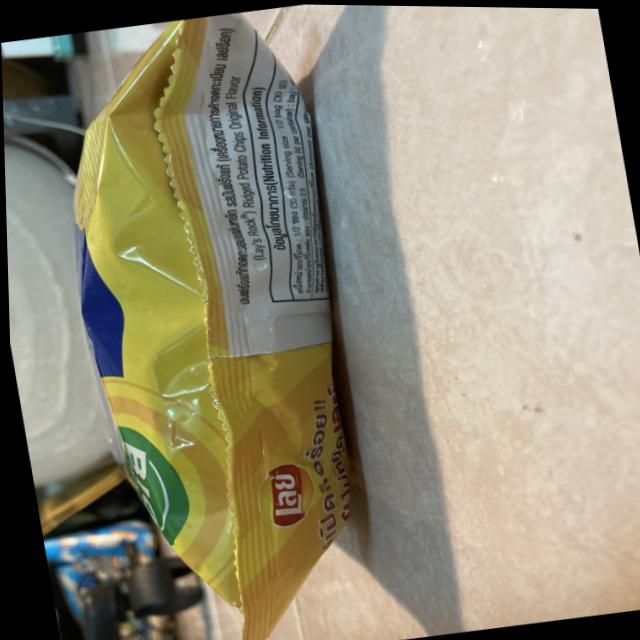LayYellow: (24, 0, 416, 640)
